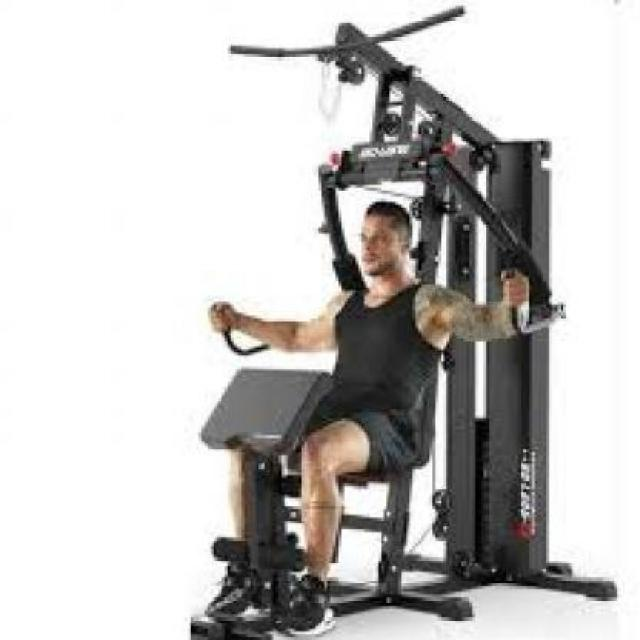Chest Press machine: (178, 4, 627, 640)
